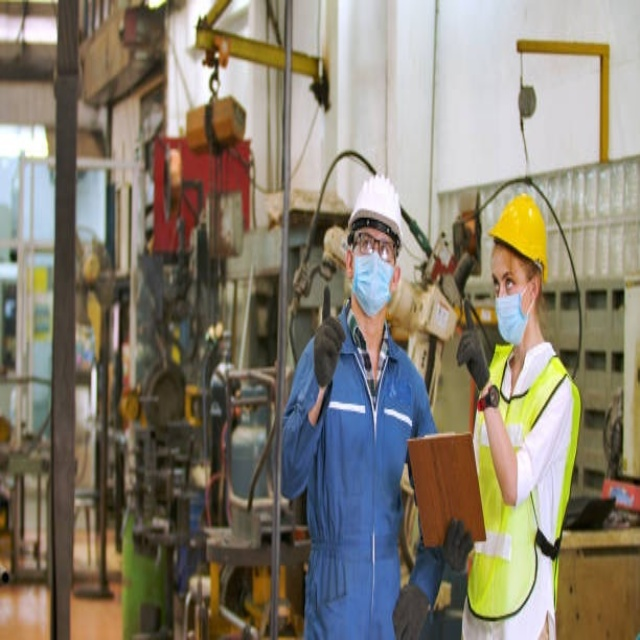Gafas: (351, 234, 398, 263), (491, 267, 533, 297)
Guantes: (313, 314, 346, 388), (456, 327, 491, 396), (392, 582, 431, 640), (442, 517, 473, 574)
Mascara: (351, 249, 395, 315), (494, 279, 535, 346)
